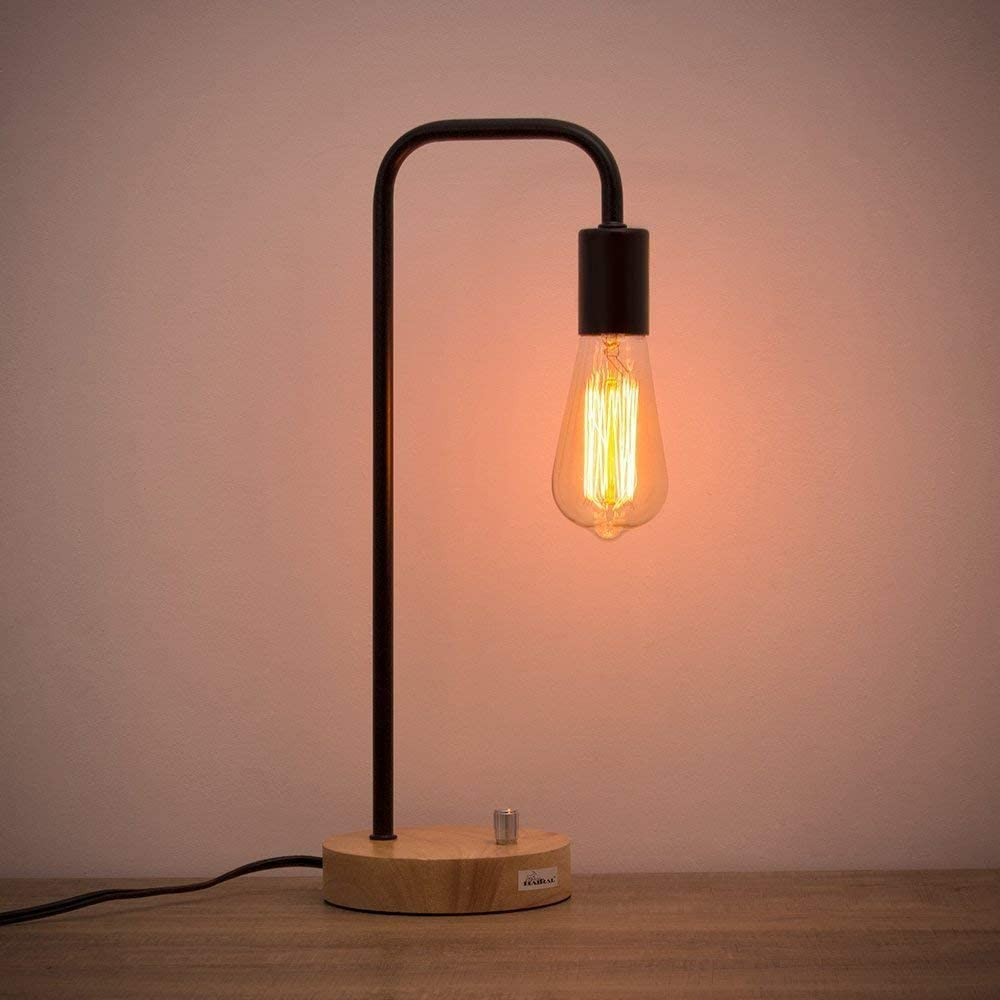lampu: (317, 111, 673, 913)
